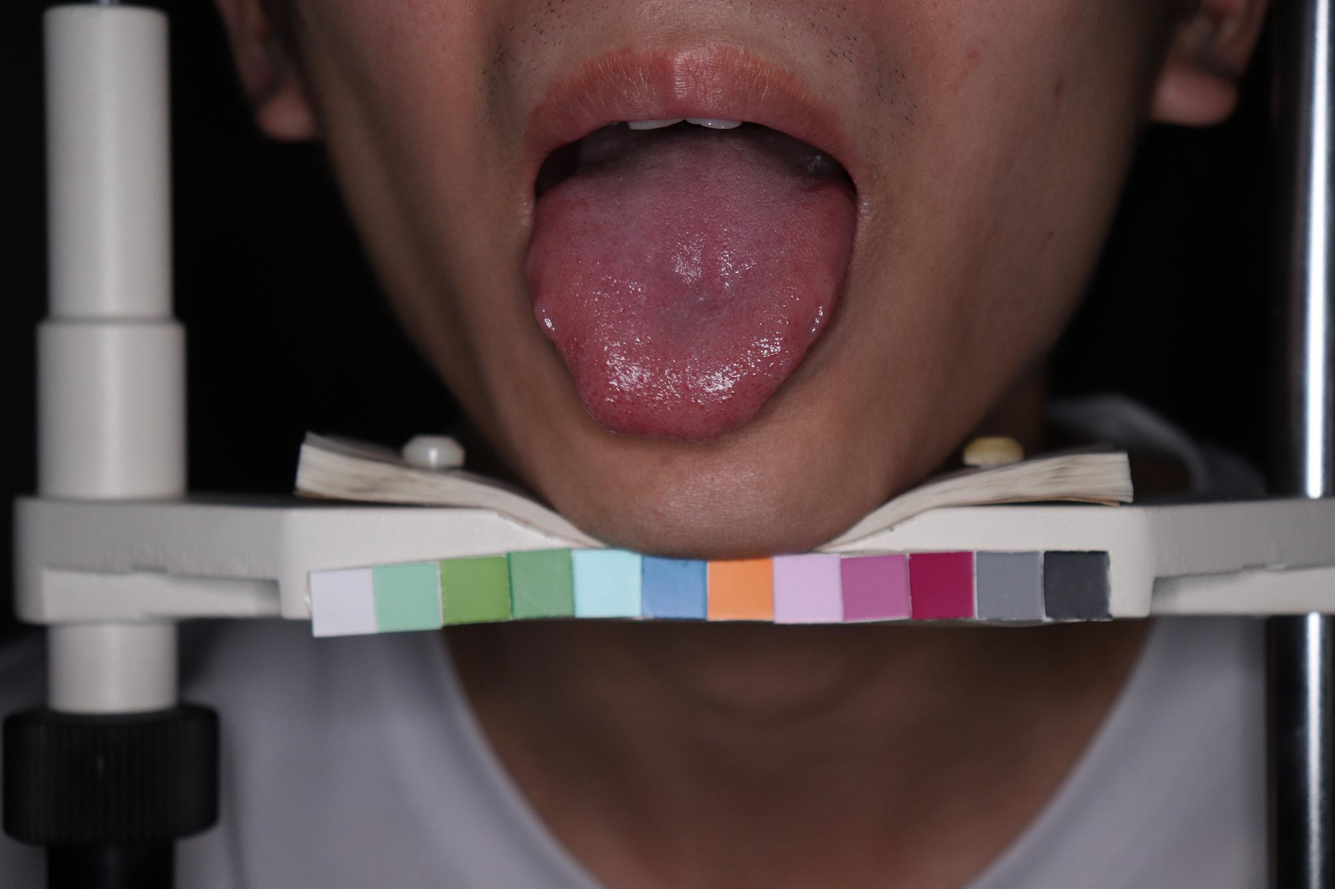baitaishe: (523, 128, 854, 440)
hongdianshe: (636, 374, 645, 382), (697, 401, 704, 410), (611, 399, 617, 408), (782, 335, 789, 342), (619, 386, 625, 394)
piweiao: (624, 257, 740, 340)
